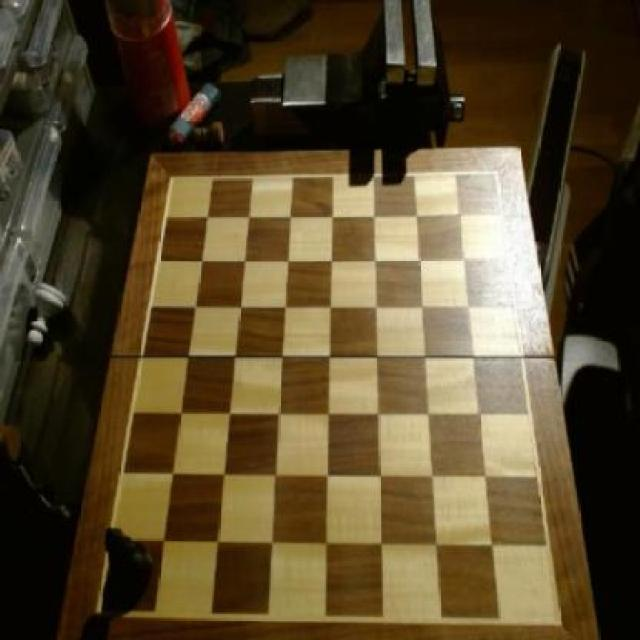bishop: (100, 523, 155, 614)
